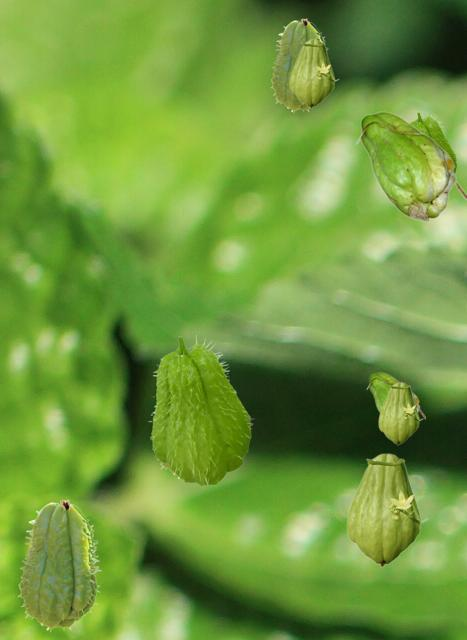sayote: (148, 334, 253, 485), (355, 111, 465, 221), (17, 499, 100, 631), (346, 453, 427, 566), (270, 18, 328, 112), (289, 39, 338, 107), (410, 111, 457, 172), (378, 382, 422, 444), (366, 372, 424, 419)
